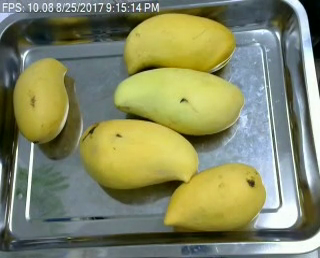Mango: (113, 64, 248, 139), (76, 120, 196, 191), (163, 161, 265, 236), (119, 10, 235, 72), (10, 58, 73, 145)
